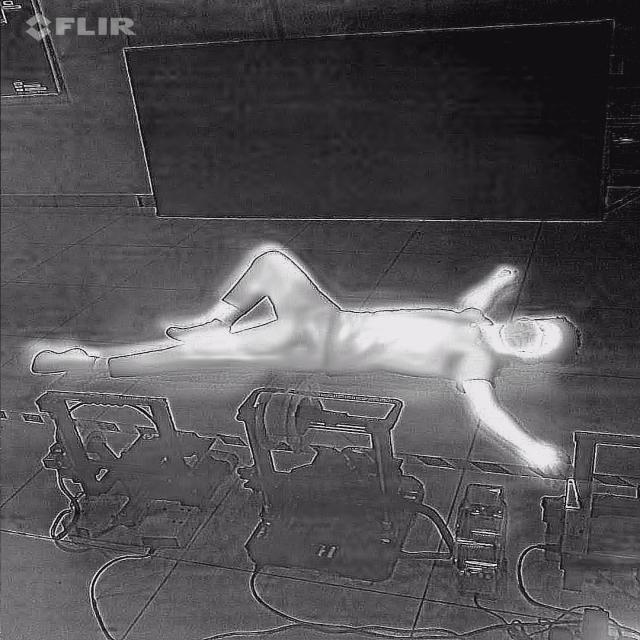Victim: (22, 243, 590, 488)
